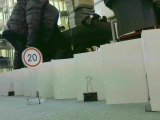speed_20: (18, 46, 45, 68)
